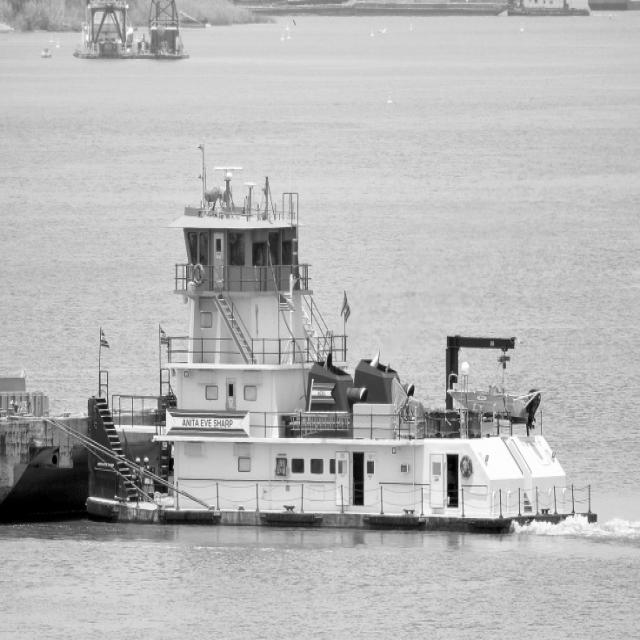tugboat: (83, 133, 605, 548)
